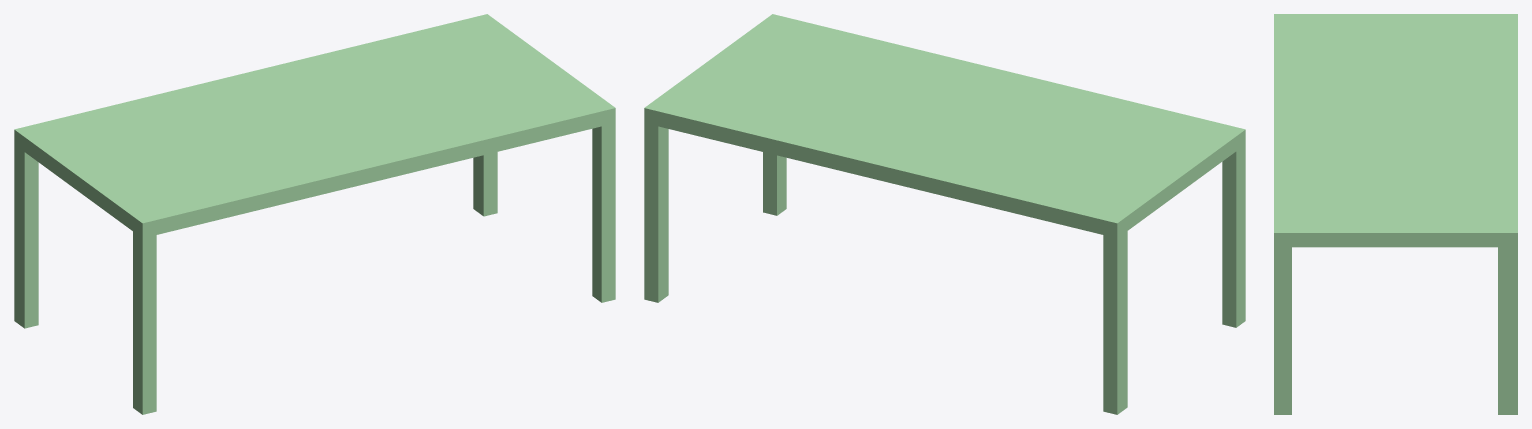
The model's file is Desk_Colored.fbx.
3 renders of one model, left to right at view 1: azimuth 30°, elevation 25°; view 2: azimuth 150°, elevation 25°; view 3: azimuth 270°, elevation 25°, orthographic. The views are drawn at different scales.
Parts seen in each view (by area): view 1: Desk; view 2: Desk; view 3: Desk.
Part boxes in pixels (x1=…): Desk: x1=14, y1=14, x2=615, y2=414; Desk: x1=644, y1=14, x2=1245, y2=414; Desk: x1=1274, y1=14, x2=1517, y2=414.
Size of the model in its own units: 3296 by 1275 by 1549.
